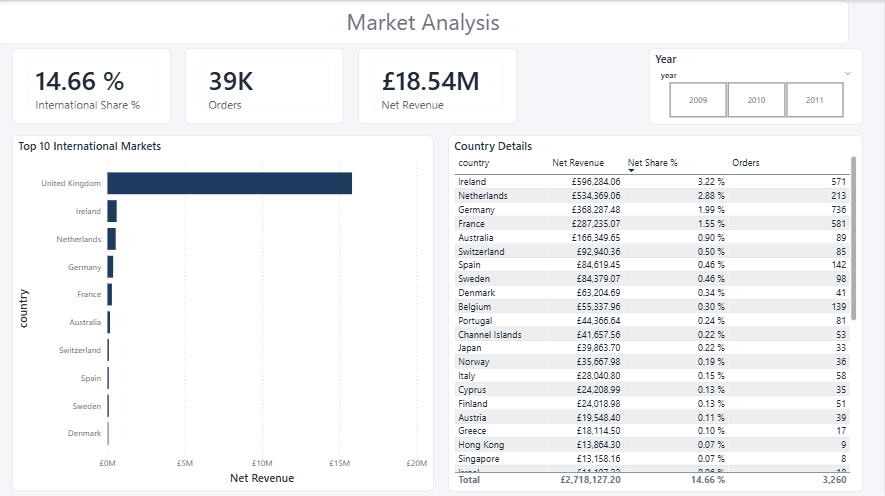

Layout of this report page (visuals, bound fields, positions):
{"tool":"powerbi","page":{"name":"Markets","canvas":[1280,720],"ordinal":1},"visuals":[{"type":"slicer","title":"Year","fields":{"Values":["dim_calendar.year"]},"box":[940.7,70,309.1,110.9],"z":0},{"type":"textbox","box":[0,0,1229.6,63.8],"z":1000},{"type":"cardVisual","fields":{"Data":["Measures_.International Share %"]},"box":[20,70,230,110],"z":2000},{"type":"cardVisual","fields":{"Data":["Measures_.Orders"]},"box":[270,70,230,110],"z":3000},{"type":"cardVisual","fields":{"Data":["Measures_.Net Revenue"]},"box":[520,70,230,110],"z":4000},{"type":"clusteredBarChart","title":"Top 10 International Markets ","fields":{"Category":["dim_country.country"],"Y":["Measures_.Net Revenue"]},"box":[20,195,610,515],"z":5000},{"type":"tableEx","title":"Country Details","fields":{"Values":["dim_country.country","Measures_.Net Revenue","Measures_.Net Share %","Measures_.Orders"]},"box":[650.1,194.9,599.7,515.7],"z":6000}]}

Visuals, with their boxes in screenshot pixels (x1, y1, x2, y2), scaled from the page's 1280x720 canvas onto the 885x496 screenshot:
"Year" slicer: 650, 48, 864, 125
textbox: 0, 0, 850, 44
cardVisual - Measures_.International Share %: 14, 48, 173, 124
cardVisual - Measures_.Orders: 187, 48, 346, 124
cardVisual - Measures_.Net Revenue: 360, 48, 519, 124
"Top 10 International Markets " clusteredBarChart: 14, 134, 436, 489
"Country Details" tableEx: 449, 134, 864, 490
